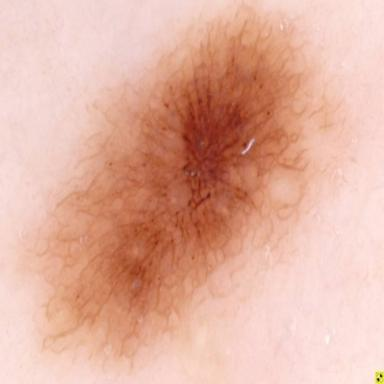nevus: (38, 7, 331, 355)
